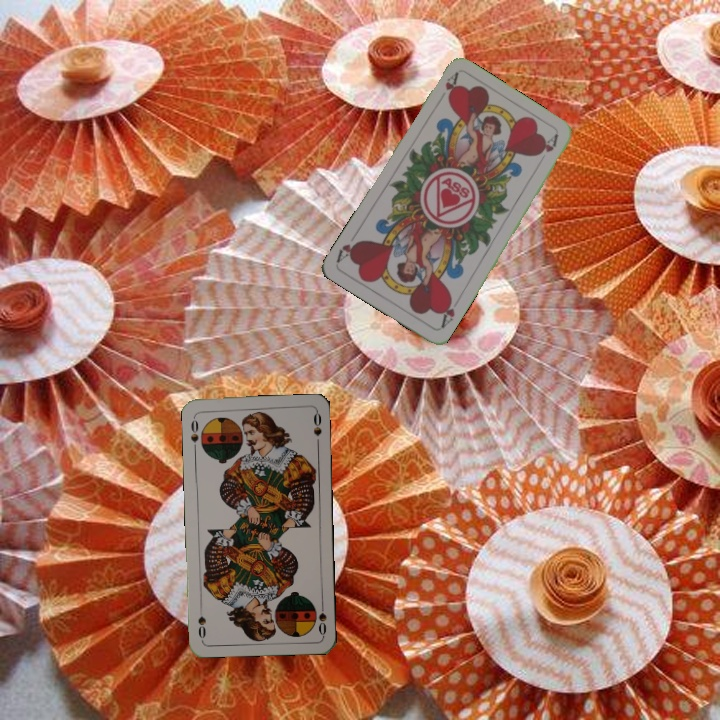HA: (437, 294, 457, 331), (441, 69, 461, 104)
SO: (314, 597, 329, 638), (186, 412, 201, 453)
